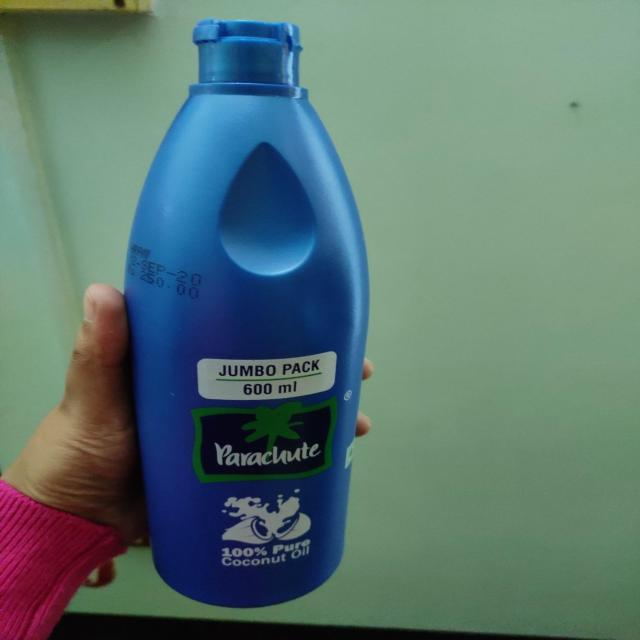parachute_oil: (115, 12, 369, 616)
